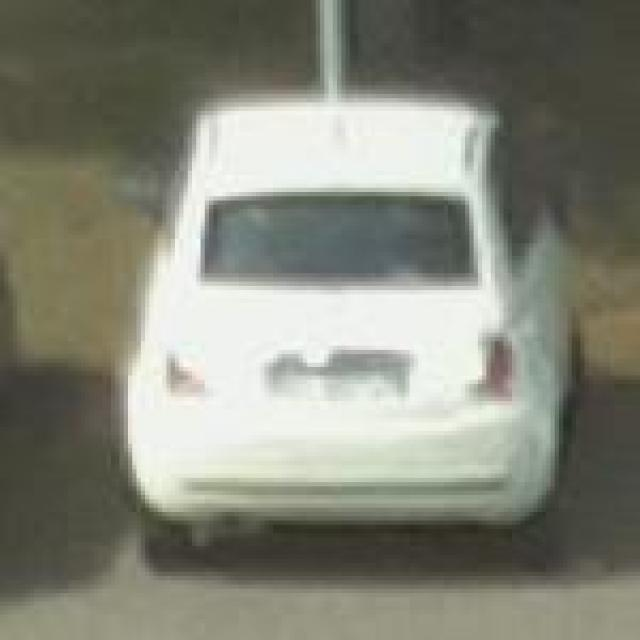cars-sUYr: (87, 61, 614, 576)
